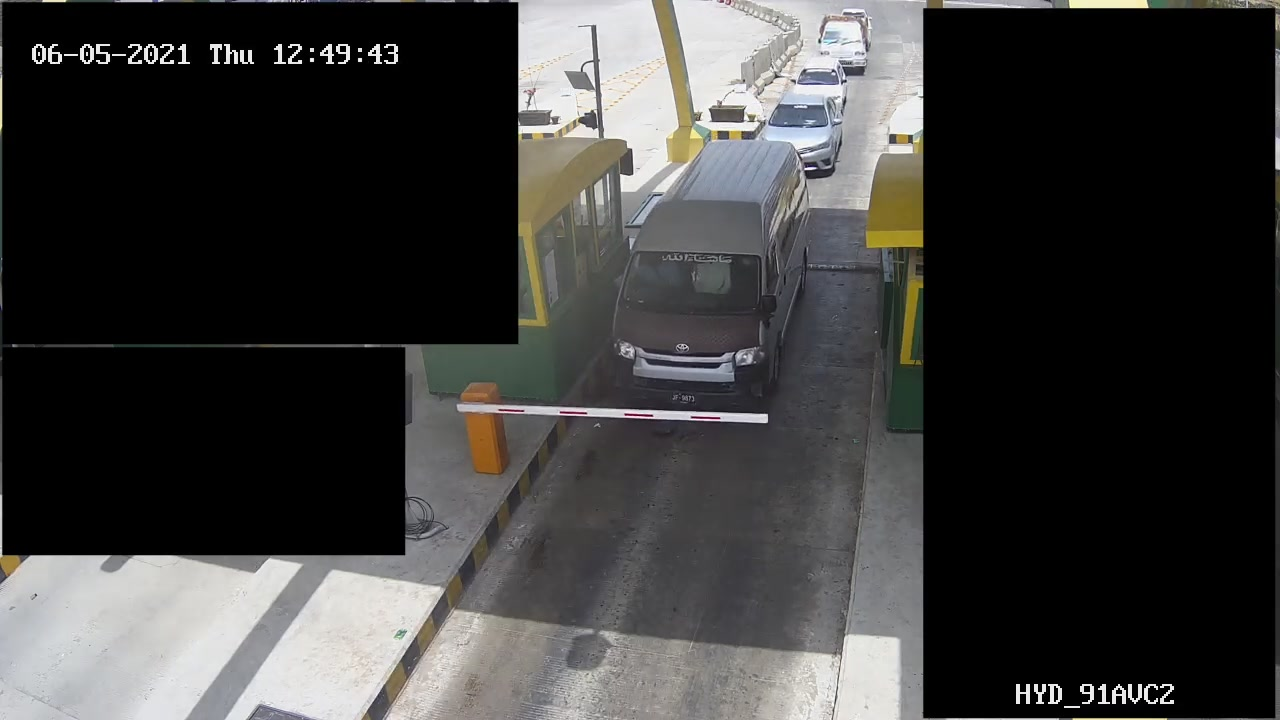F2: (608, 131, 813, 403)
